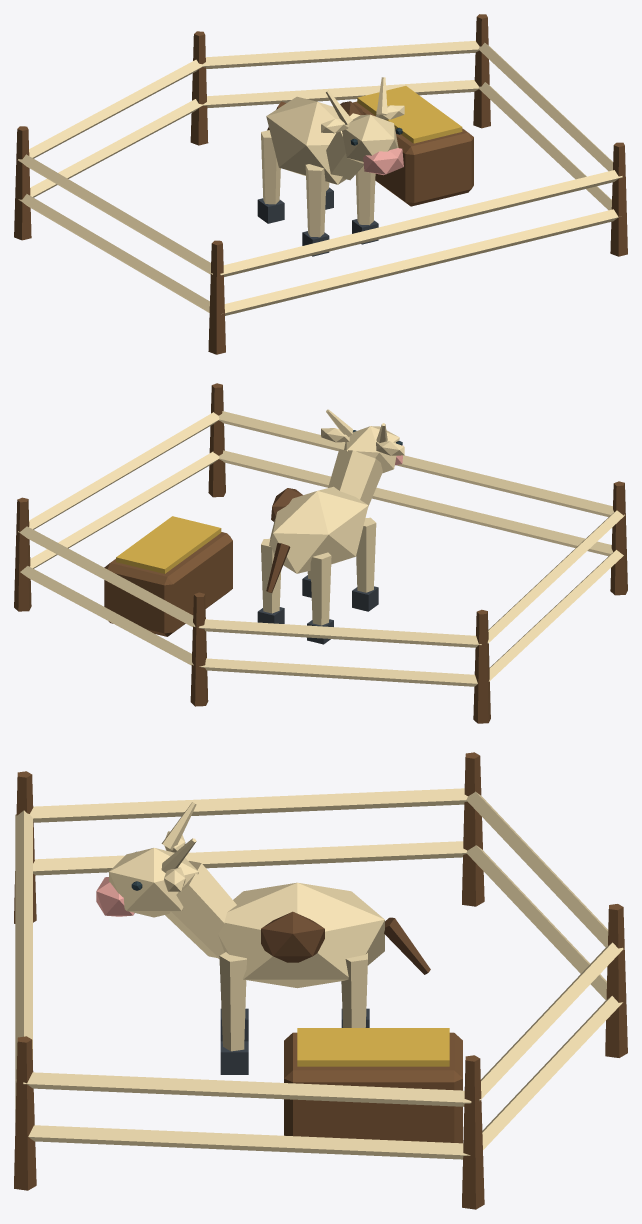
File: imp_pasture.glb
3 renders of one model, top to bottom at view 1: azimuth 30°, elevation 25°; view 2: azimuth 150°, elevation 25°; view 3: azimuth 270°, elevation 25°, orthographic. The views are drawn at different scales.
Parts seen in each view (by area): view 1: imp_pasture; view 2: imp_pasture; view 3: imp_pasture.
Boxes of the visible parts, box(x1,y1,x2,y2) form: imp_pasture: box(14, 14, 627, 354); imp_pasture: box(14, 383, 627, 723); imp_pasture: box(14, 752, 627, 1209).
Bounding box in the file's own units: 0.8266 × 0.2869 × 0.6853.
